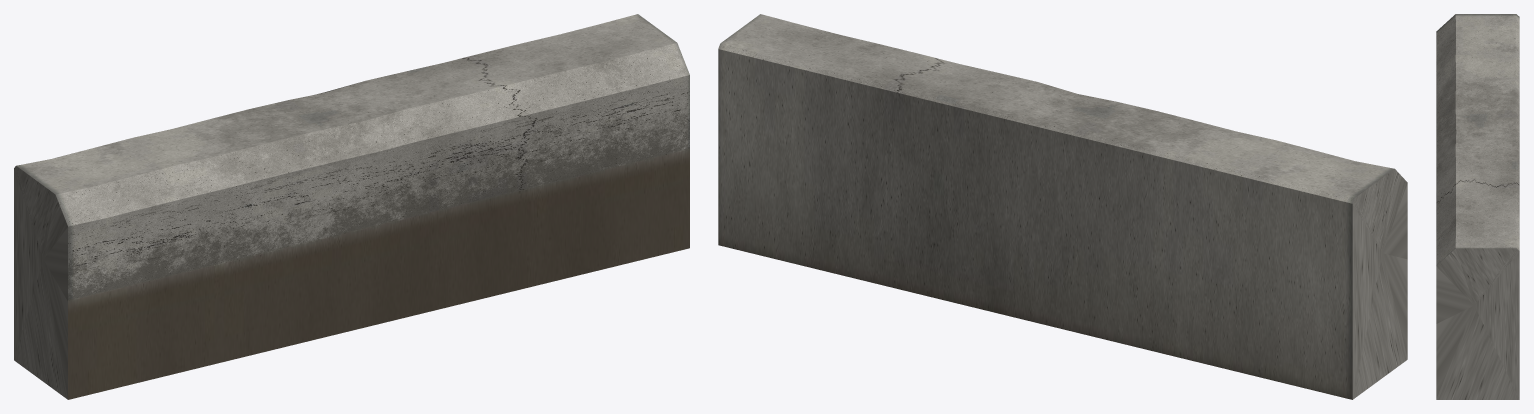
Rendered from curb_low_web.glb.
3 views of the same model, side by side, from view 1: azimuth 30°, elevation 25°; view 2: azimuth 150°, elevation 25°; view 3: azimuth 270°, elevation 25° (orthographic). The views are drawn at different scales.
Visible parts, largest first — view 1: curb_low_Mesh; view 2: curb_low_Mesh; view 3: curb_low_Mesh.
Part boxes in pixels (x1,y1,x2,y2): curb_low_Mesh: (14, 14, 689, 399); curb_low_Mesh: (718, 14, 1407, 399); curb_low_Mesh: (1436, 14, 1519, 399).
Bounding box in the file's own units: 0.995 × 0.3 × 0.15.
Materials: 1 (1 with a texture image).
